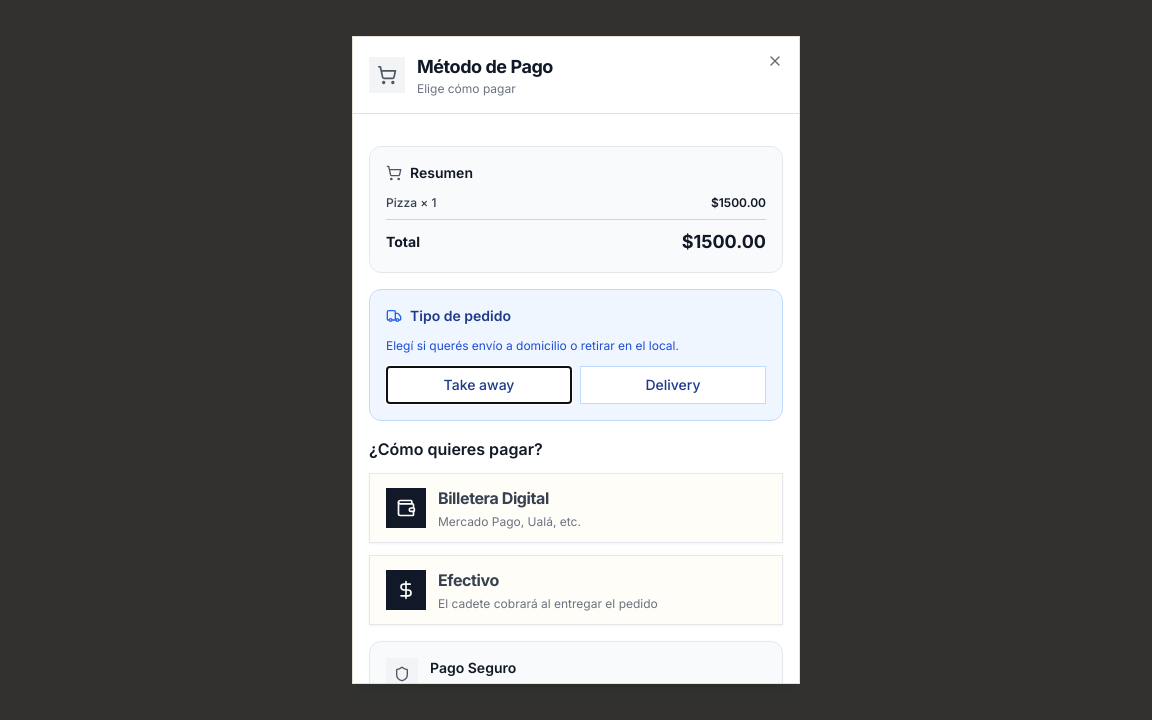
Test: PaymentModal › asks for take away vs delivery before showing address form
Expected: the heading "Tipo de pedido" is shown, [410,306,511,326]
Expected: the text "Calle" is not shown
Click the button "Take away" at (479, 385), box [386,366,572,404]
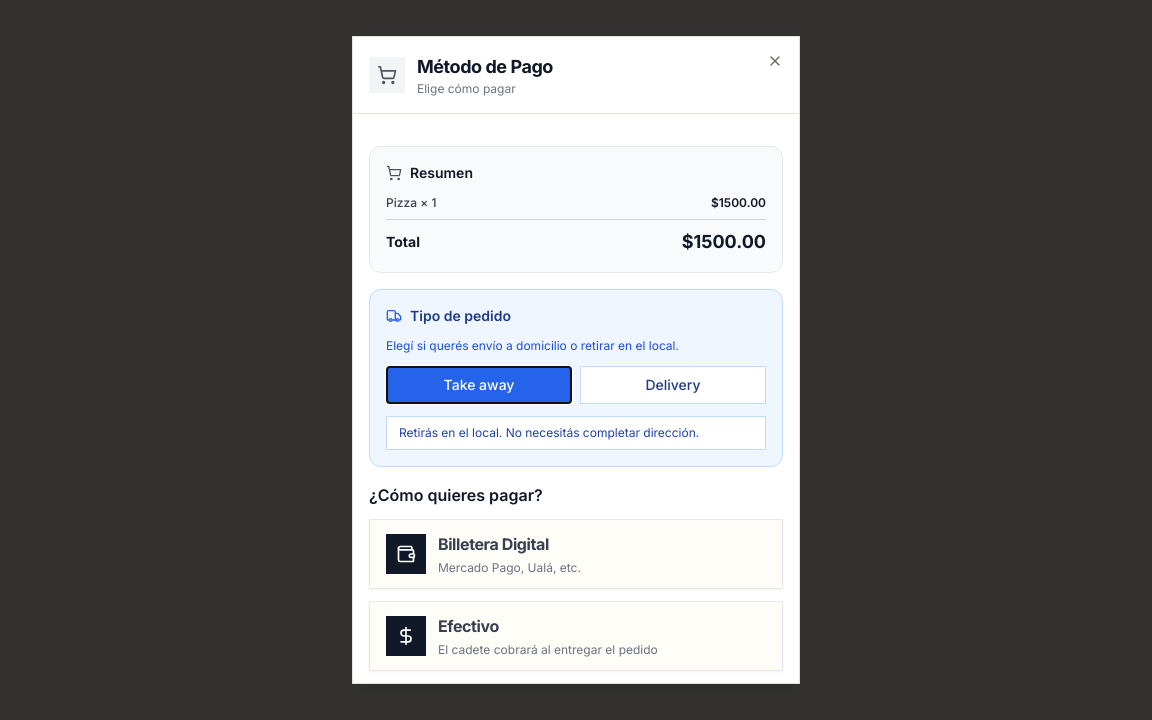
Expected: the text "Calle" is not shown
Click the button "Delivery" at (673, 385), box [580,366,766,404]
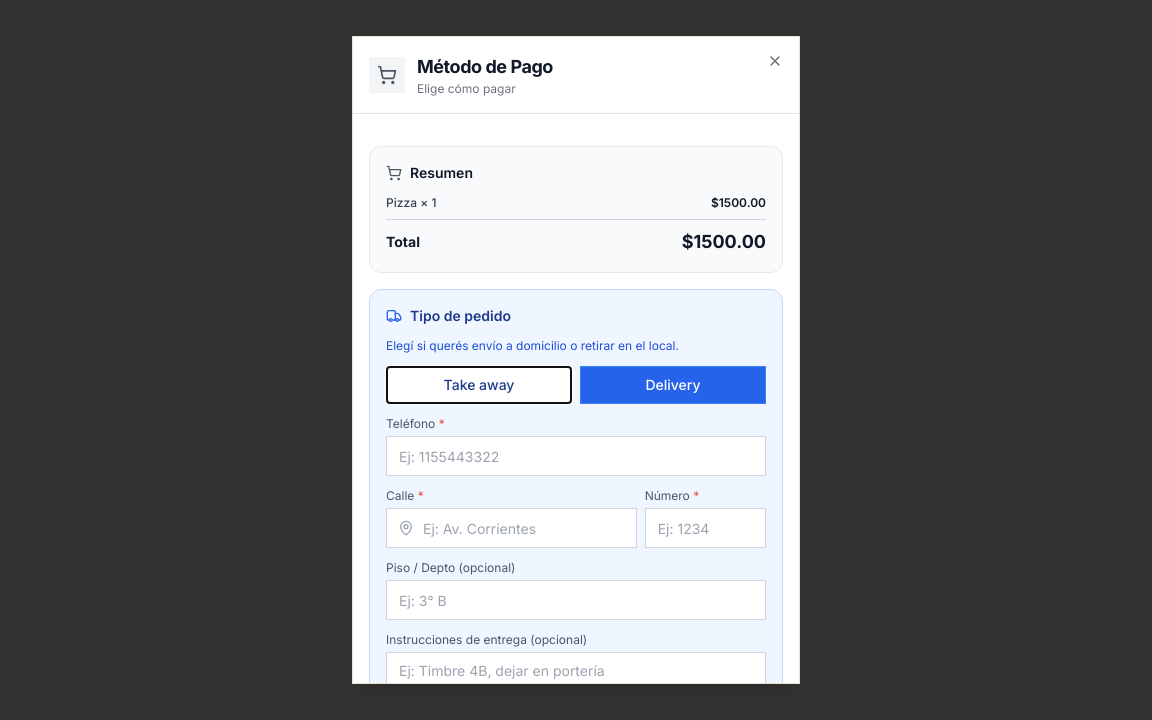
Result: the text "Calle" is shown at [386,488,414,503]
